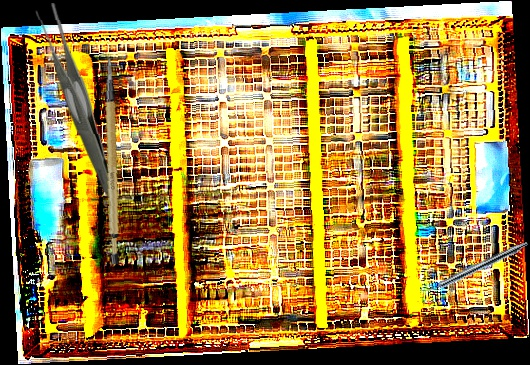Dressing Forceps: (35, 2, 119, 210)
Handpiece: (419, 237, 530, 299)
Scalpel Handle: (81, 57, 147, 265)
